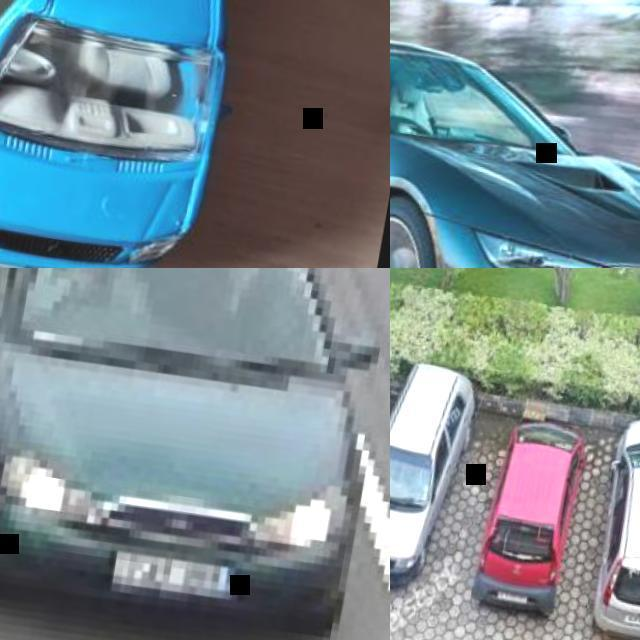car: (454, 413, 586, 616)
